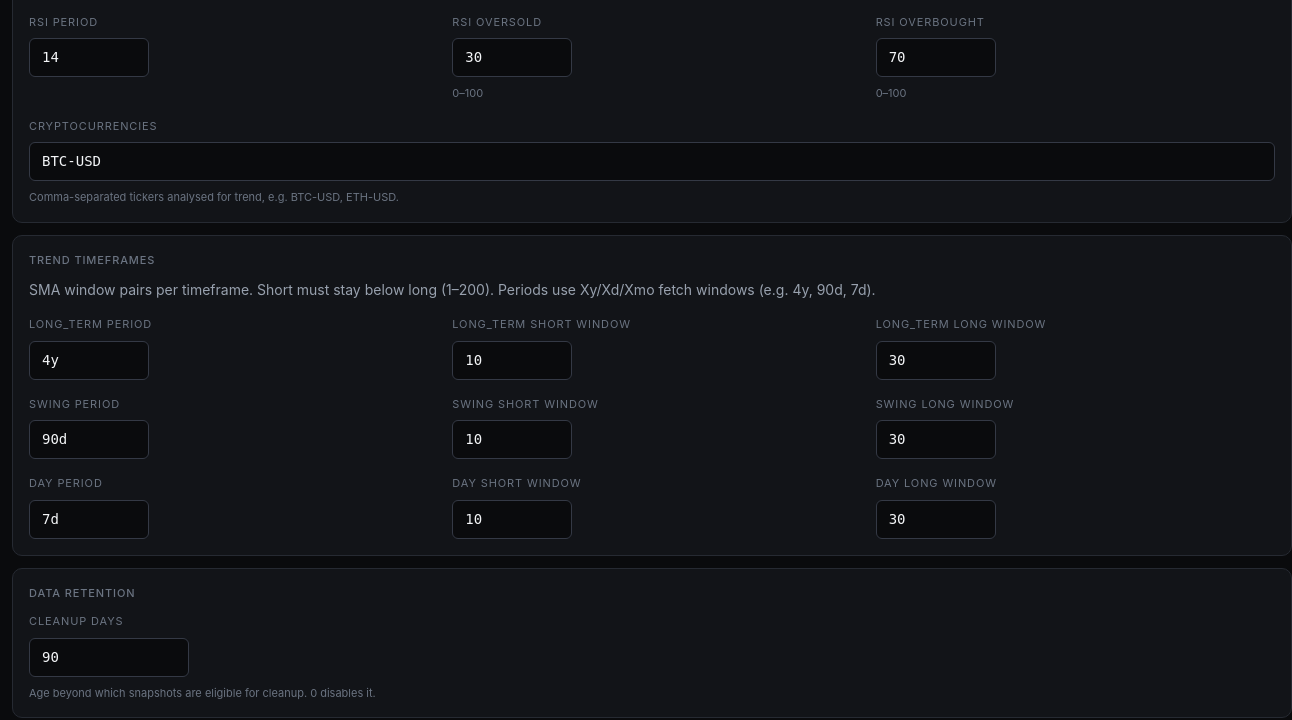
Test: Settings trend periods › carries edited period strings in the PUT payload
(page scrolled)
Check: the heading "Trend timeframes" is shown, box [29,252,155,266]
Replace the text in the field labelled "long_term period" with "5y". click: (89, 360)
box: [29,340,149,380]
(page scrolled)
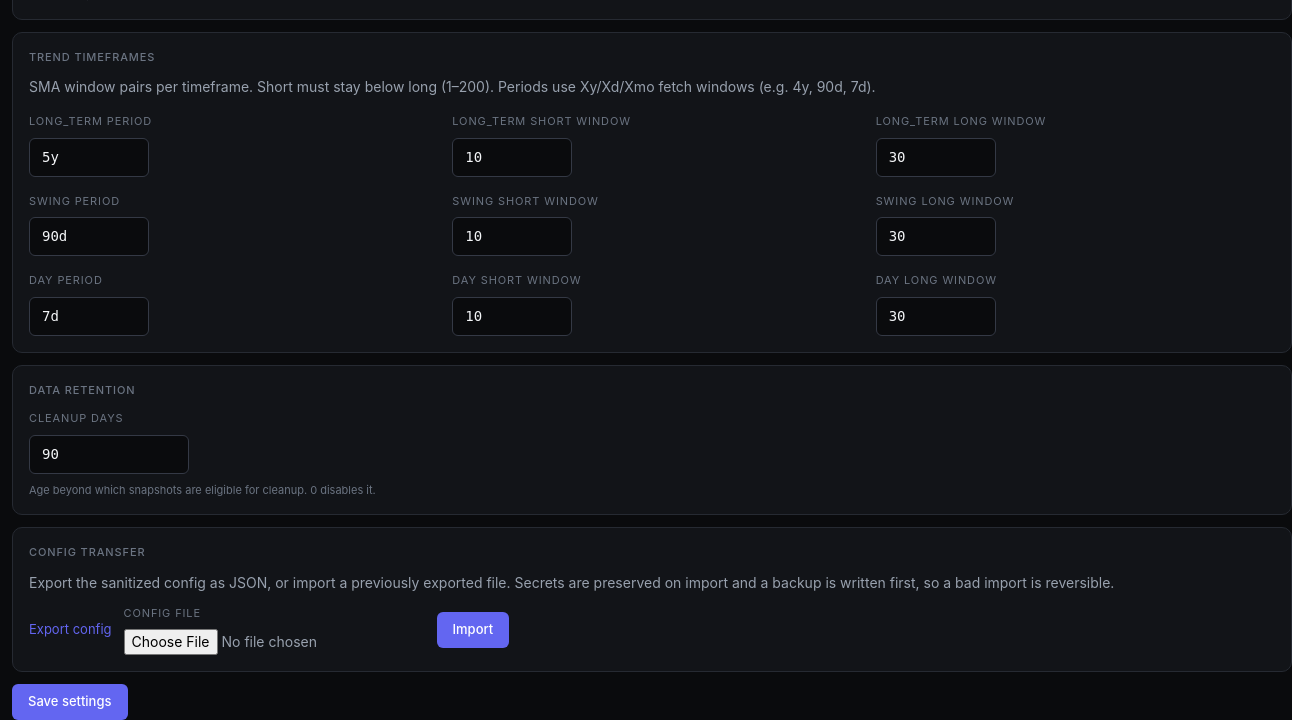
Click the button "Save settings". click: (70, 702)
box: [12,684,128,719]
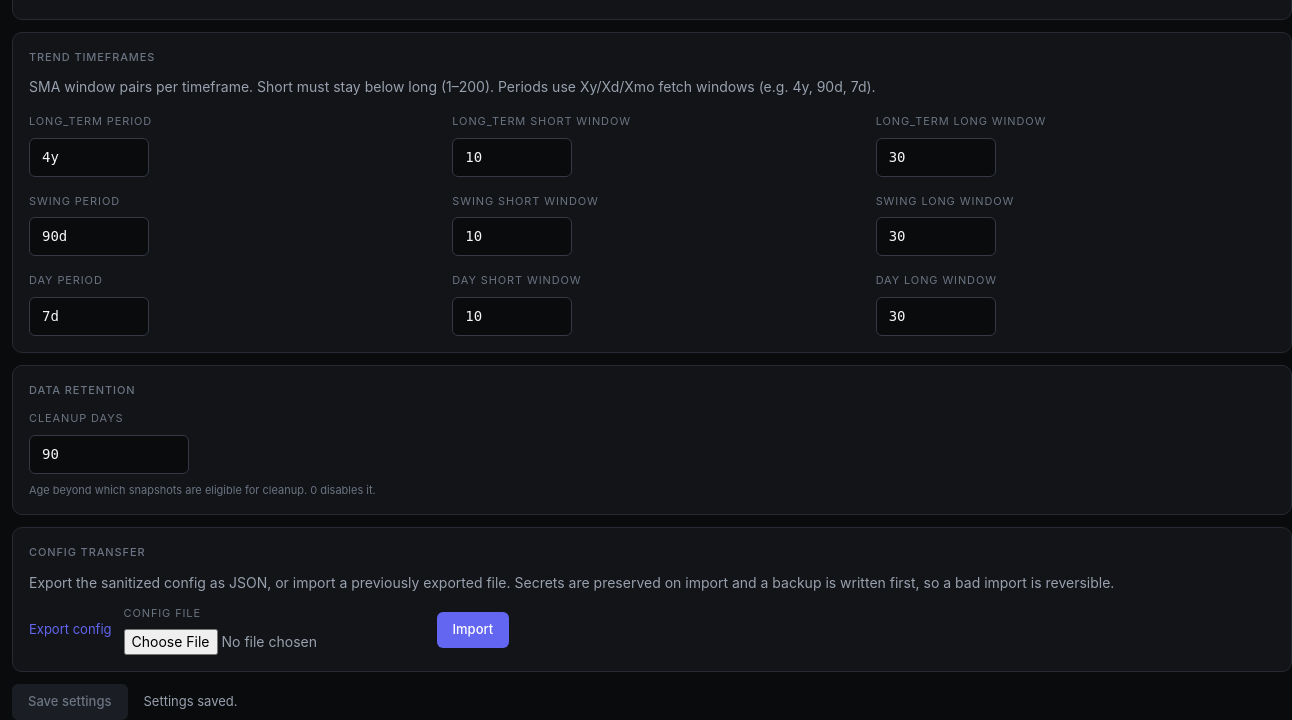
Check: the text "Settings saved." is shown, box [144,692,238,712]
